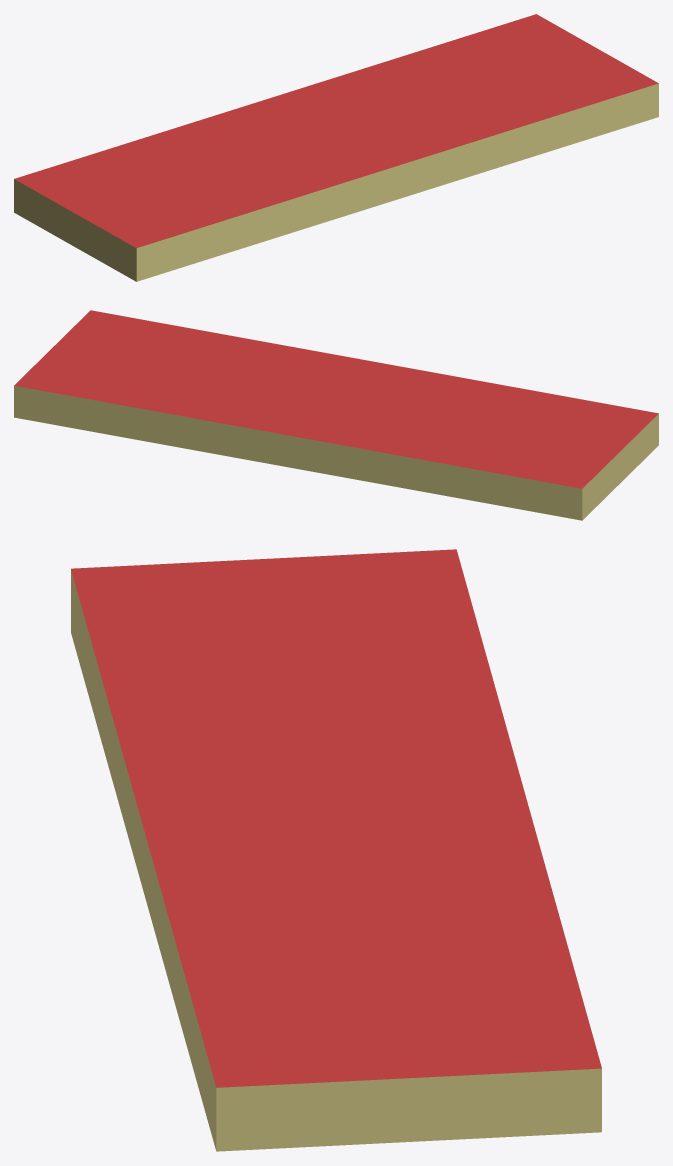
The picture shows the model from 3 angles, top to bottom: view 1: azimuth 30°, elevation 25°; view 2: azimuth 150°, elevation 25°; view 3: azimuth 270°, elevation 25°; orthographic projection. The views are drawn at different scales.
Size of the model in its own units: 40.33 by 16.81 by 2.23.
